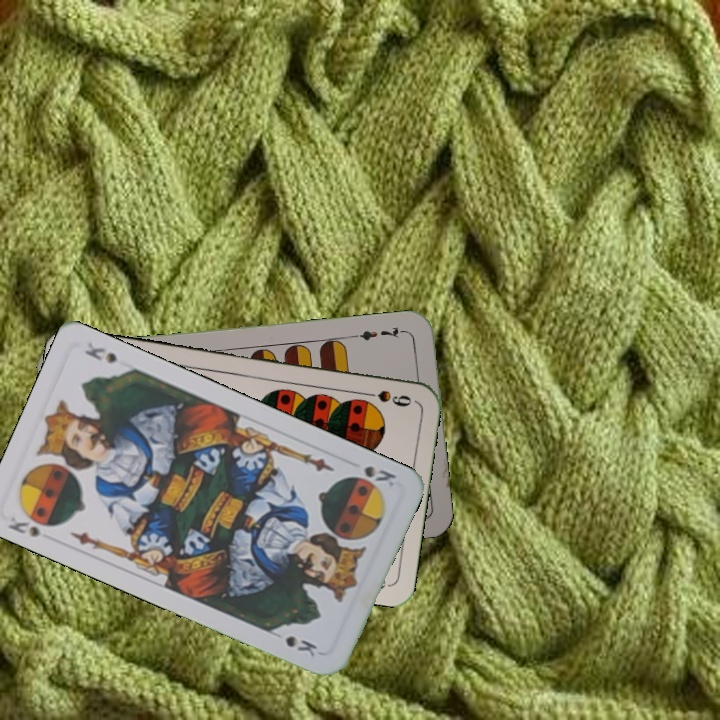E7: (350, 322, 409, 343)
S9: (357, 386, 414, 410)
SK: (4, 507, 59, 540), (360, 461, 399, 490)
